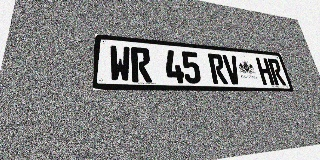4: (164, 50, 185, 83)
5: (181, 51, 202, 84)
H: (255, 57, 275, 85)
R: (131, 47, 152, 83), (207, 53, 228, 84), (267, 58, 286, 85)
V: (222, 55, 242, 84)
W: (109, 45, 131, 82)
